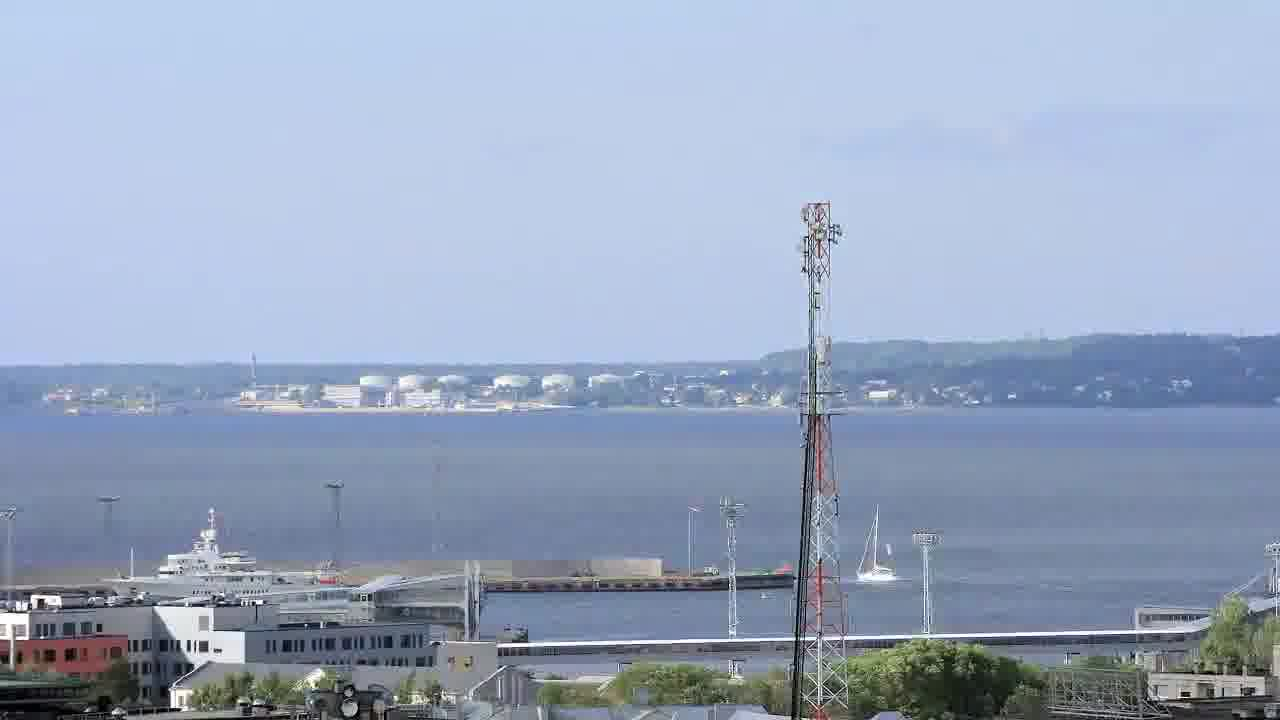type-0: (849, 506, 905, 603)
type-3: (88, 507, 346, 605)
